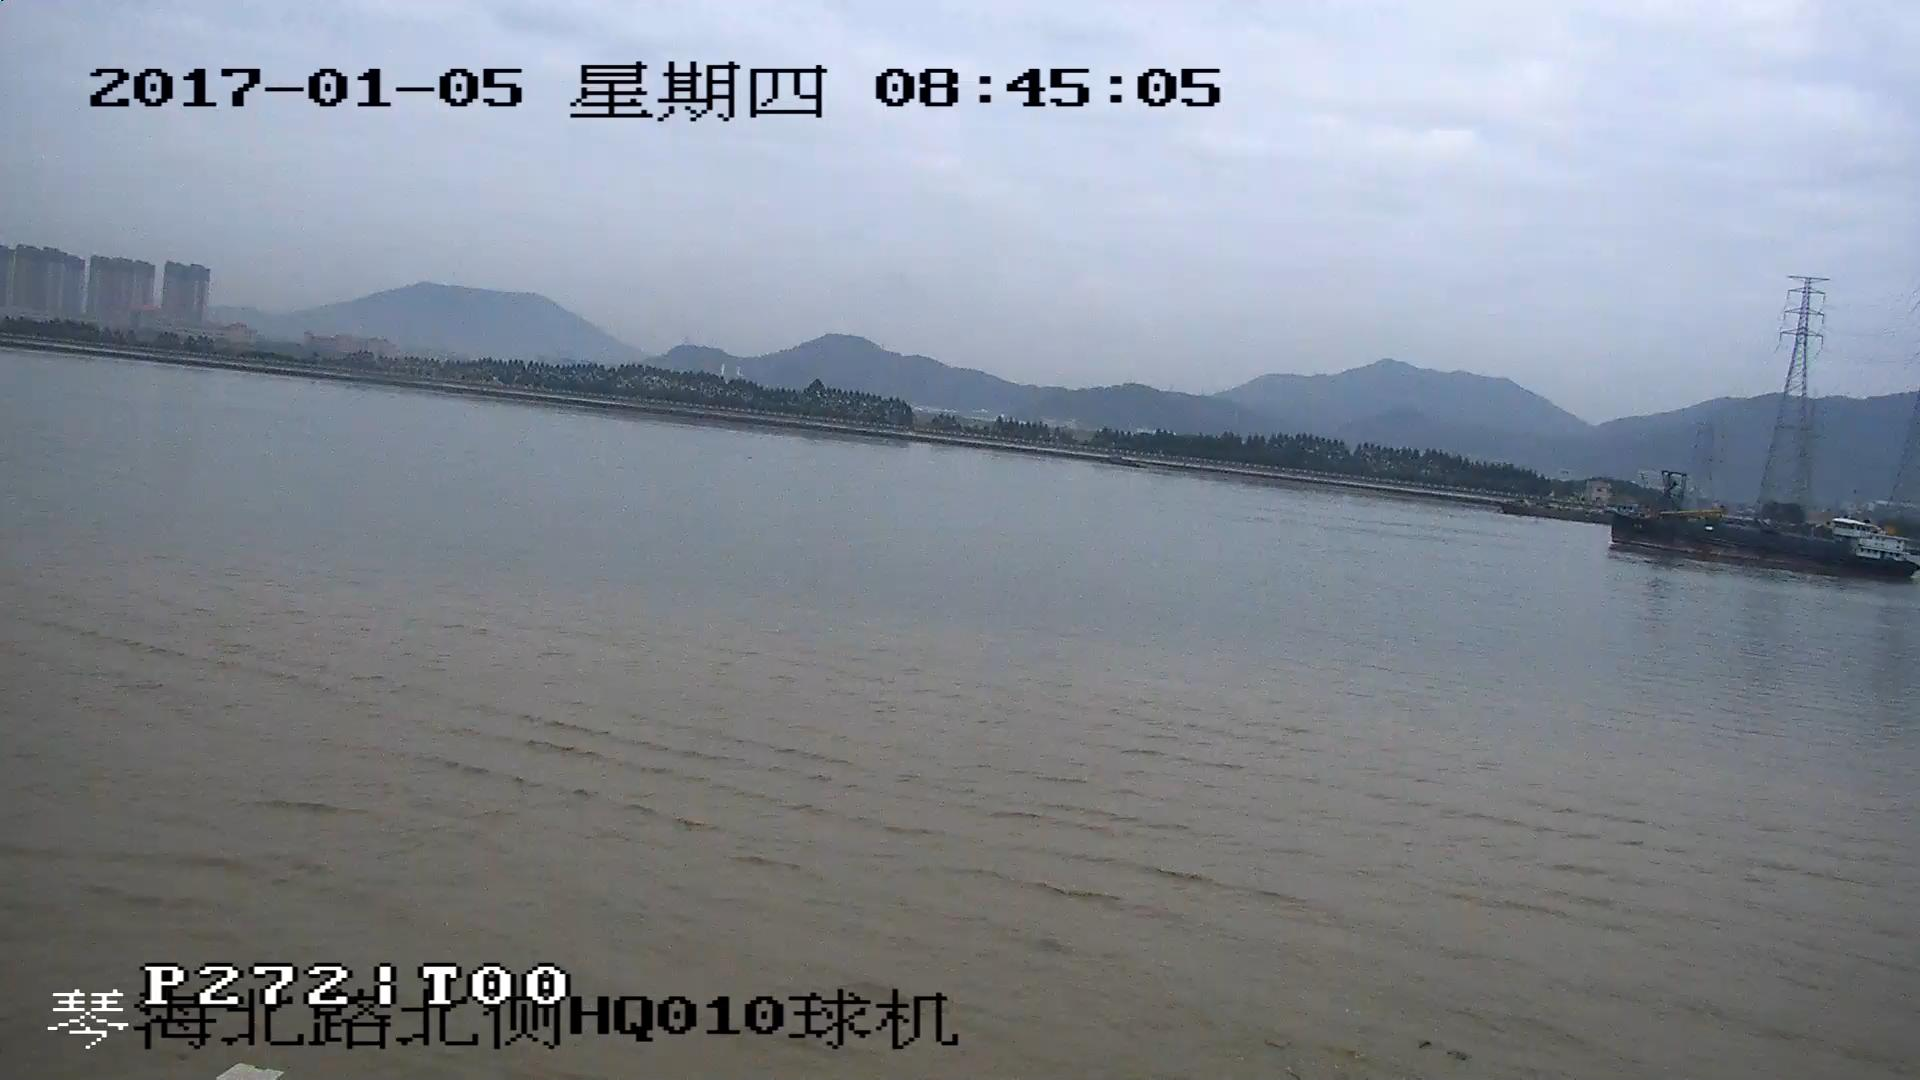bulk cargo carrier: (1609, 480, 1920, 581)
